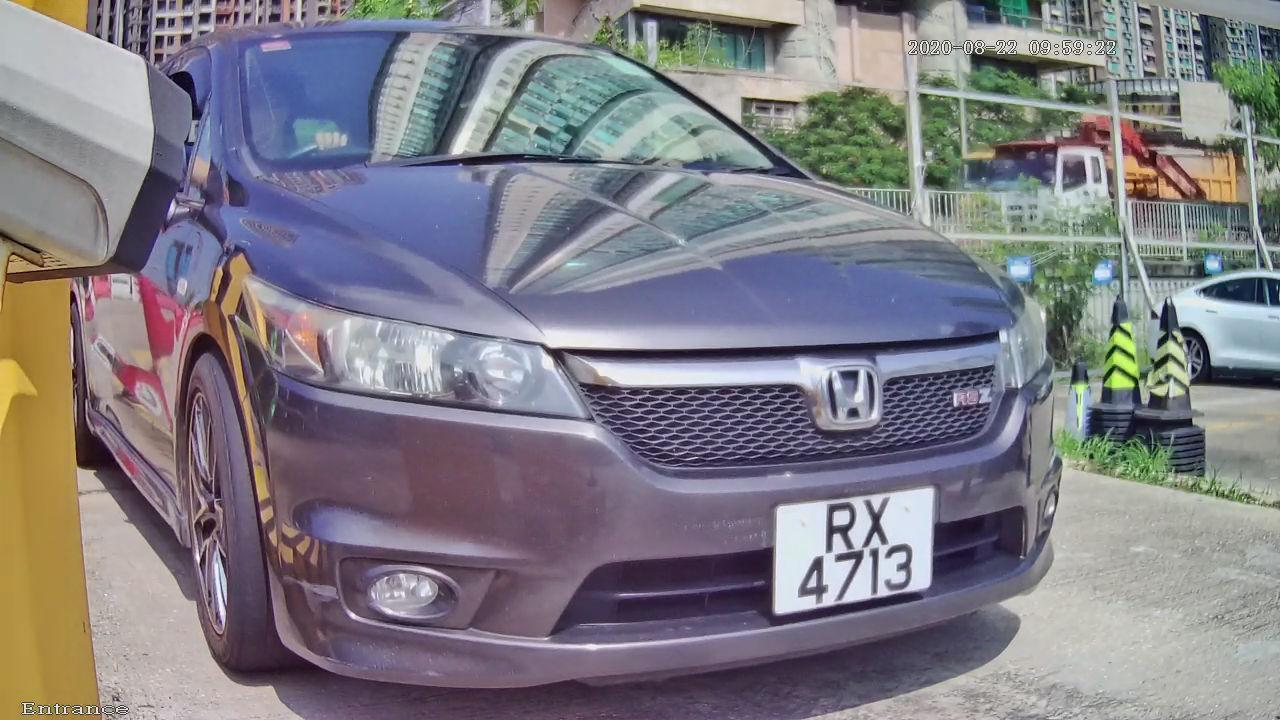License Plate: (755, 470, 949, 634)
